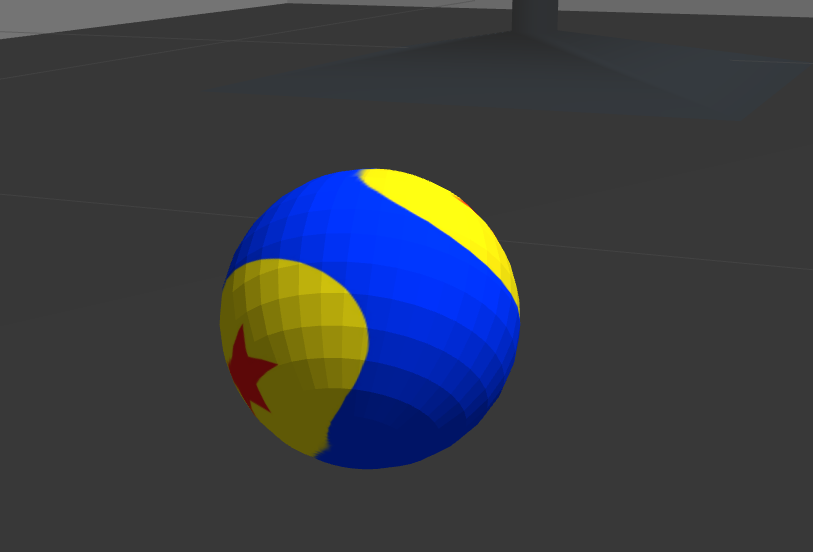toy_story_ball: (218, 169, 521, 470)
